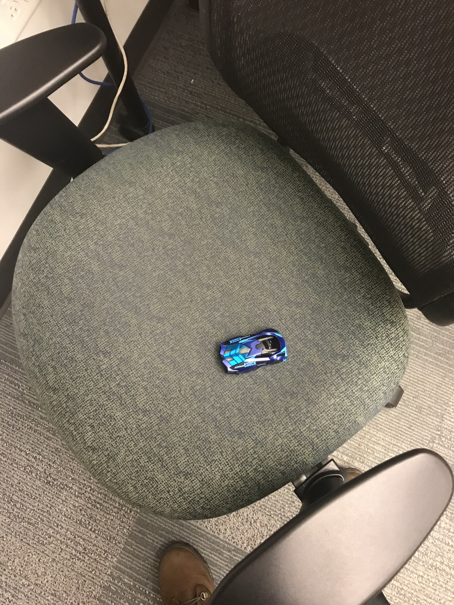Shock: (214, 327, 291, 374)
